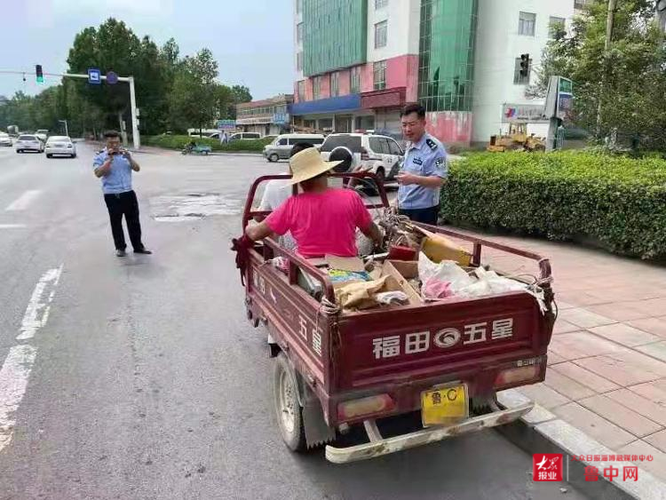driver: (247, 140, 305, 213)
overloading: (233, 139, 553, 467)
passenger: (277, 151, 369, 268)
